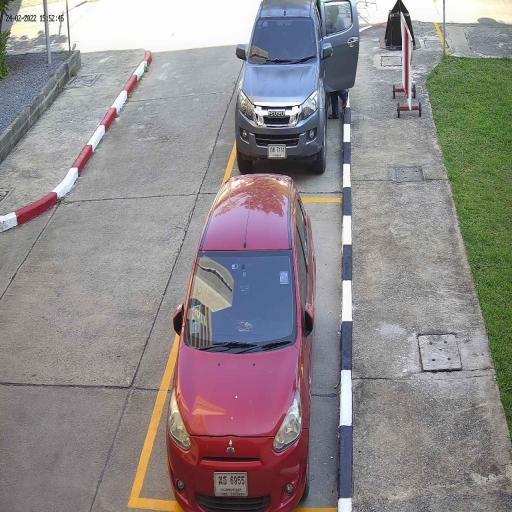car: (165, 175, 317, 512), (233, 0, 328, 176)
